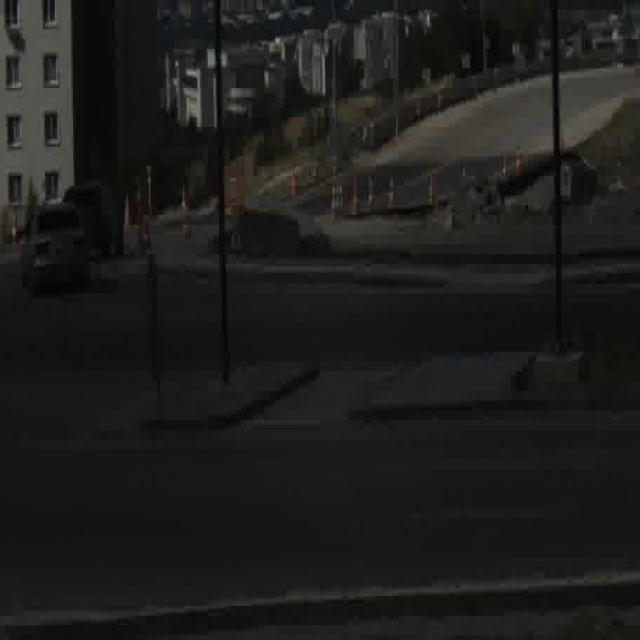Car: (19, 206, 89, 288), (62, 181, 124, 261)
